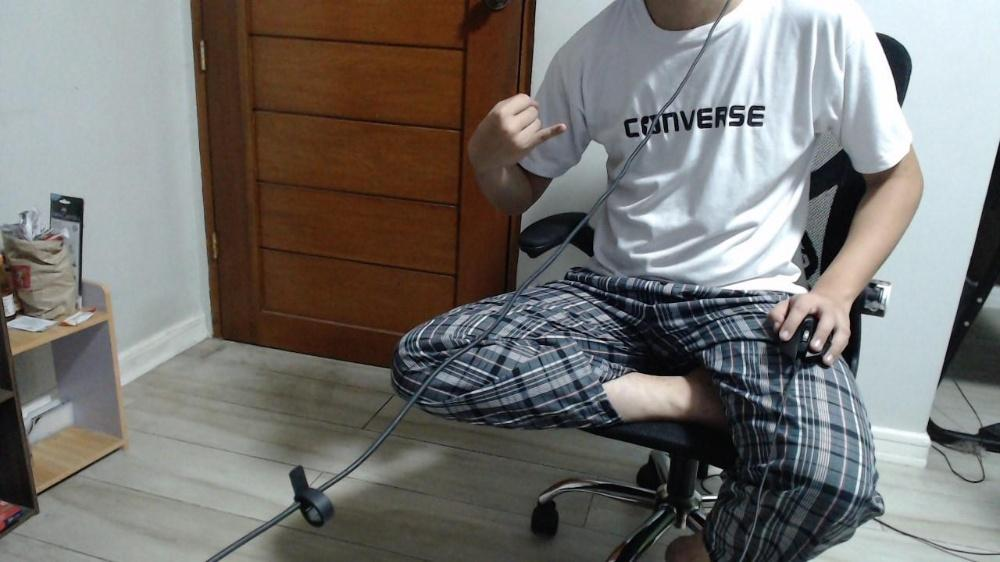j: (475, 91, 565, 166)
